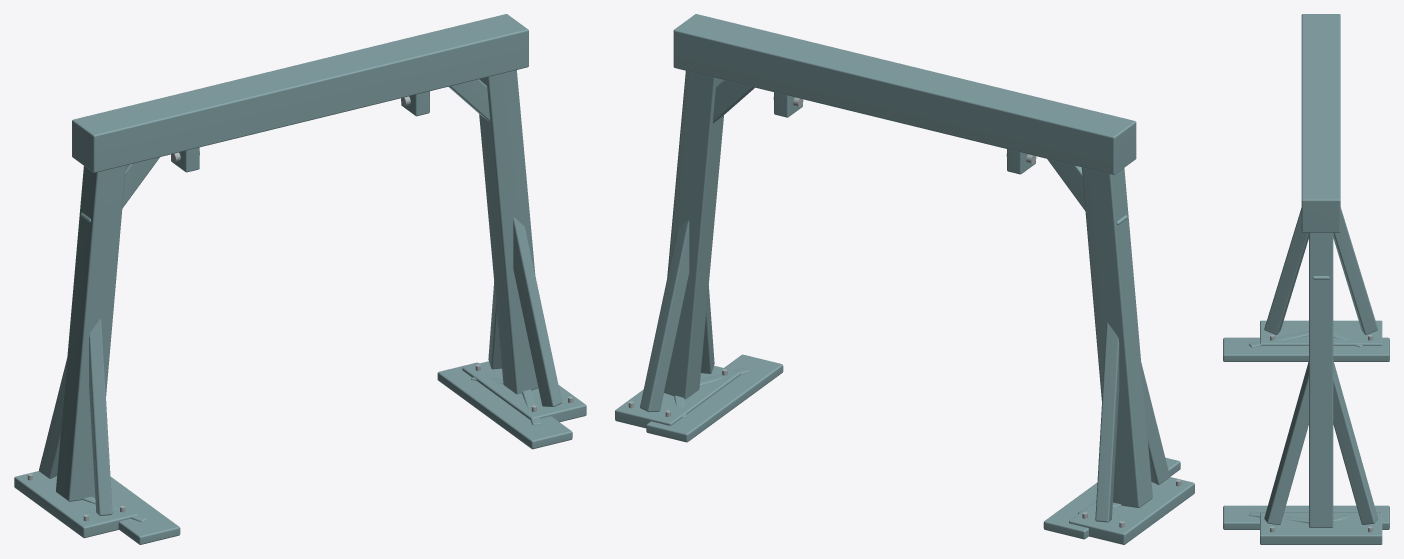
The model's file is trawl_gantry_4m.glb.
3 renders of one model, left to right at view 1: azimuth 30°, elevation 25°; view 2: azimuth 150°, elevation 25°; view 3: azimuth 270°, elevation 25°, orthographic. The views are drawn at different scales.
Parts seen in each view (by area): view 1: trawl_gantry_4m Warm white painted steel; view 2: trawl_gantry_4m Warm white painted steel; view 3: trawl_gantry_4m Warm white painted steel.
Part boxes in pixels (left/top/right/bottom): trawl_gantry_4m Warm white painted steel: left=14, top=14, right=586, bottom=544; trawl_gantry_4m Warm white painted steel: left=615, top=14, right=1194, bottom=544; trawl_gantry_4m Warm white painted steel: left=1223, top=14, right=1389, bottom=544.
Size of the model in its own units: 4.16 by 2.98 by 1.36.
